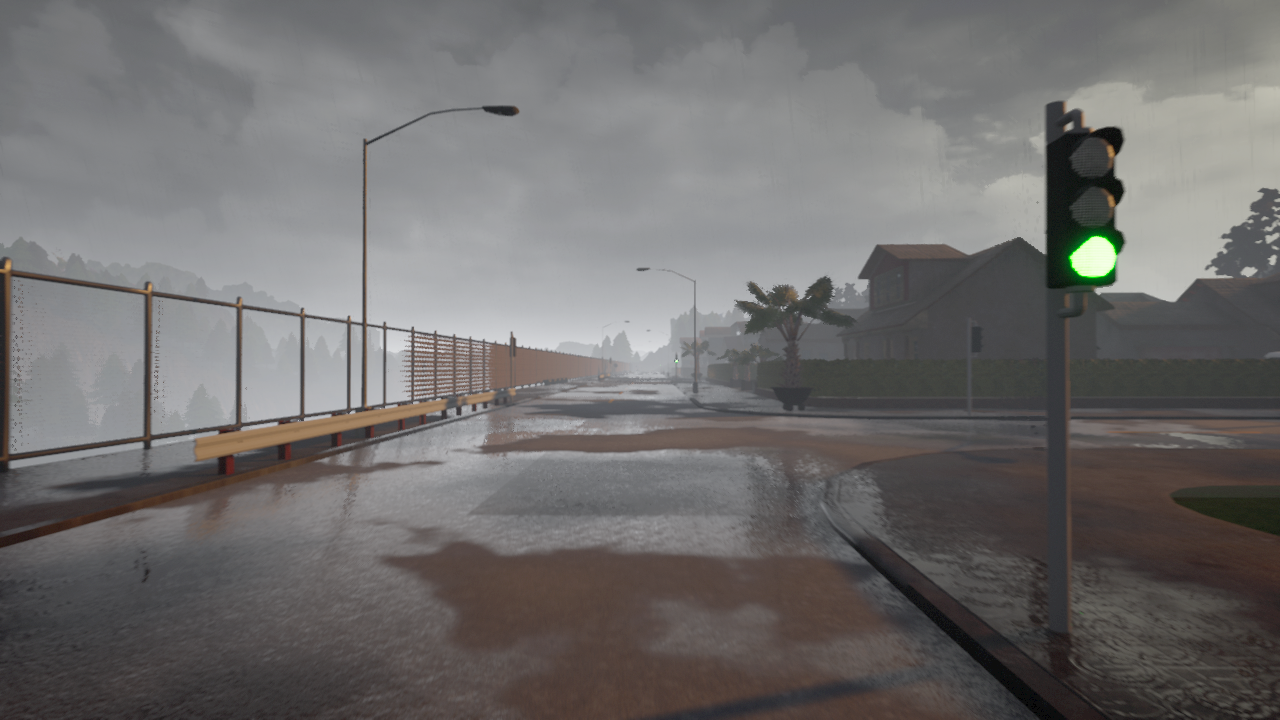green: (1048, 122, 1126, 293)
